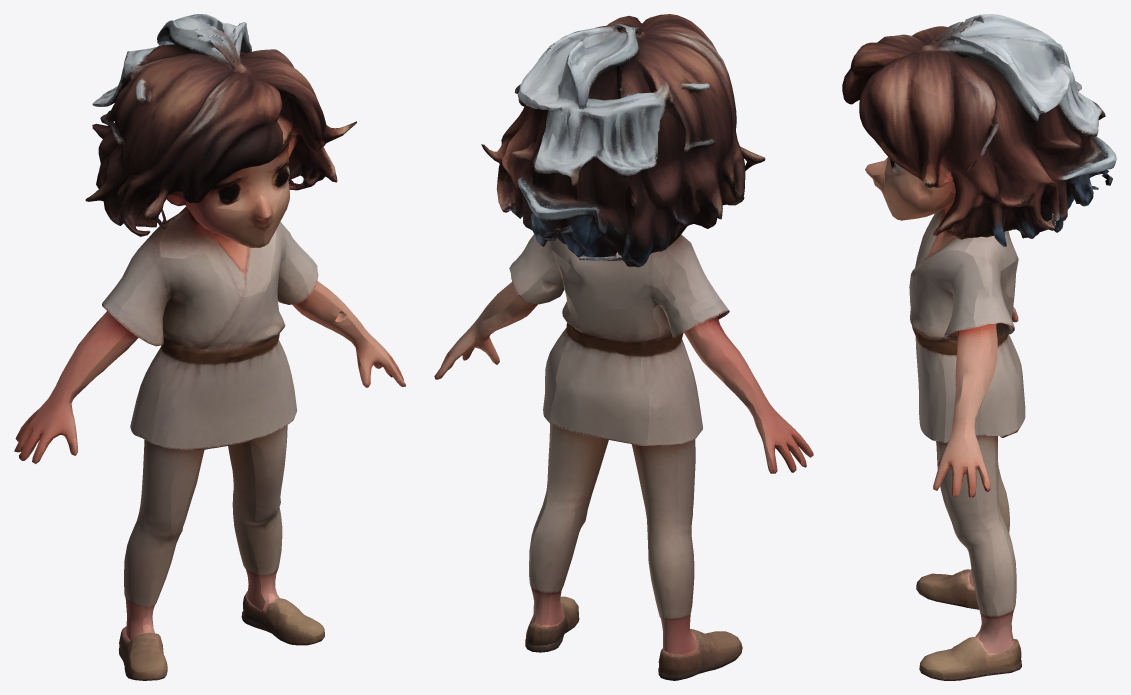
The model's file is fear_child.glb.
3 renders of one model, left to right at view 1: azimuth 30°, elevation 25°; view 2: azimuth 150°, elevation 25°; view 3: azimuth 270°, elevation 25°, orthographic.
Parts seen in each view (by area): view 1: childBody; view 2: childBody; view 3: childBody.
Boxes of the visible parts, <box> form: childBody: <box>14,14,405,680</box>; childBody: <box>434,14,813,680</box>; childBody: <box>842,14,1116,680</box>.
Size of the model in its own units: 0.6905 by 1.1 by 0.4443.
Materials: 1 (1 with a texture image).
